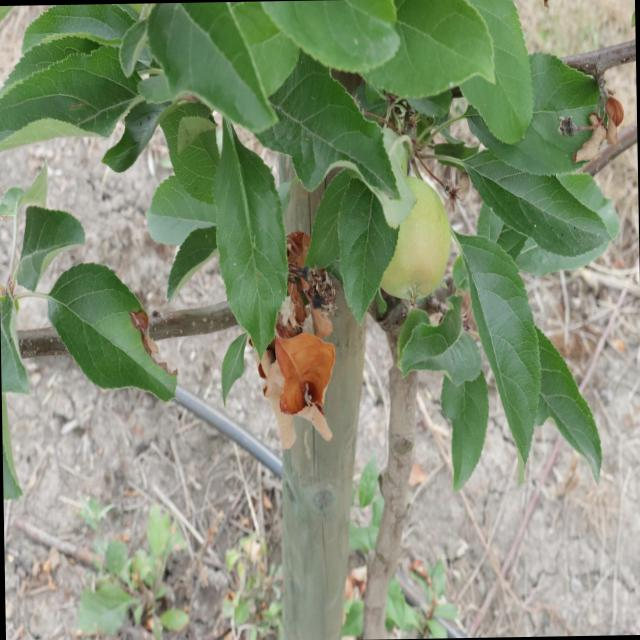-FireBlight-: (275, 238, 335, 444)
